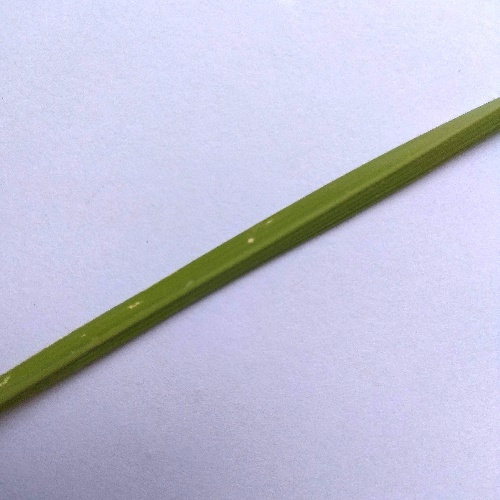Busuk Leher: (118, 291, 146, 317), (240, 230, 261, 252), (2, 366, 16, 394)
